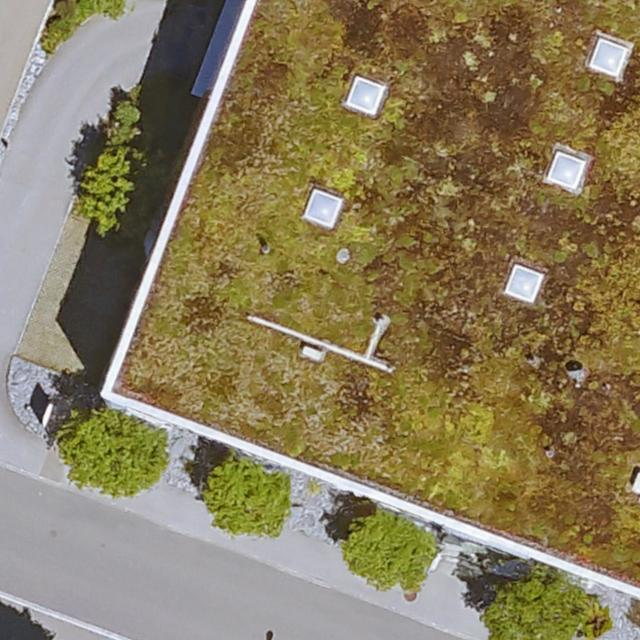tree: (479, 562, 614, 640), (59, 409, 170, 497), (340, 510, 437, 592), (200, 456, 289, 540), (70, 147, 141, 236)
